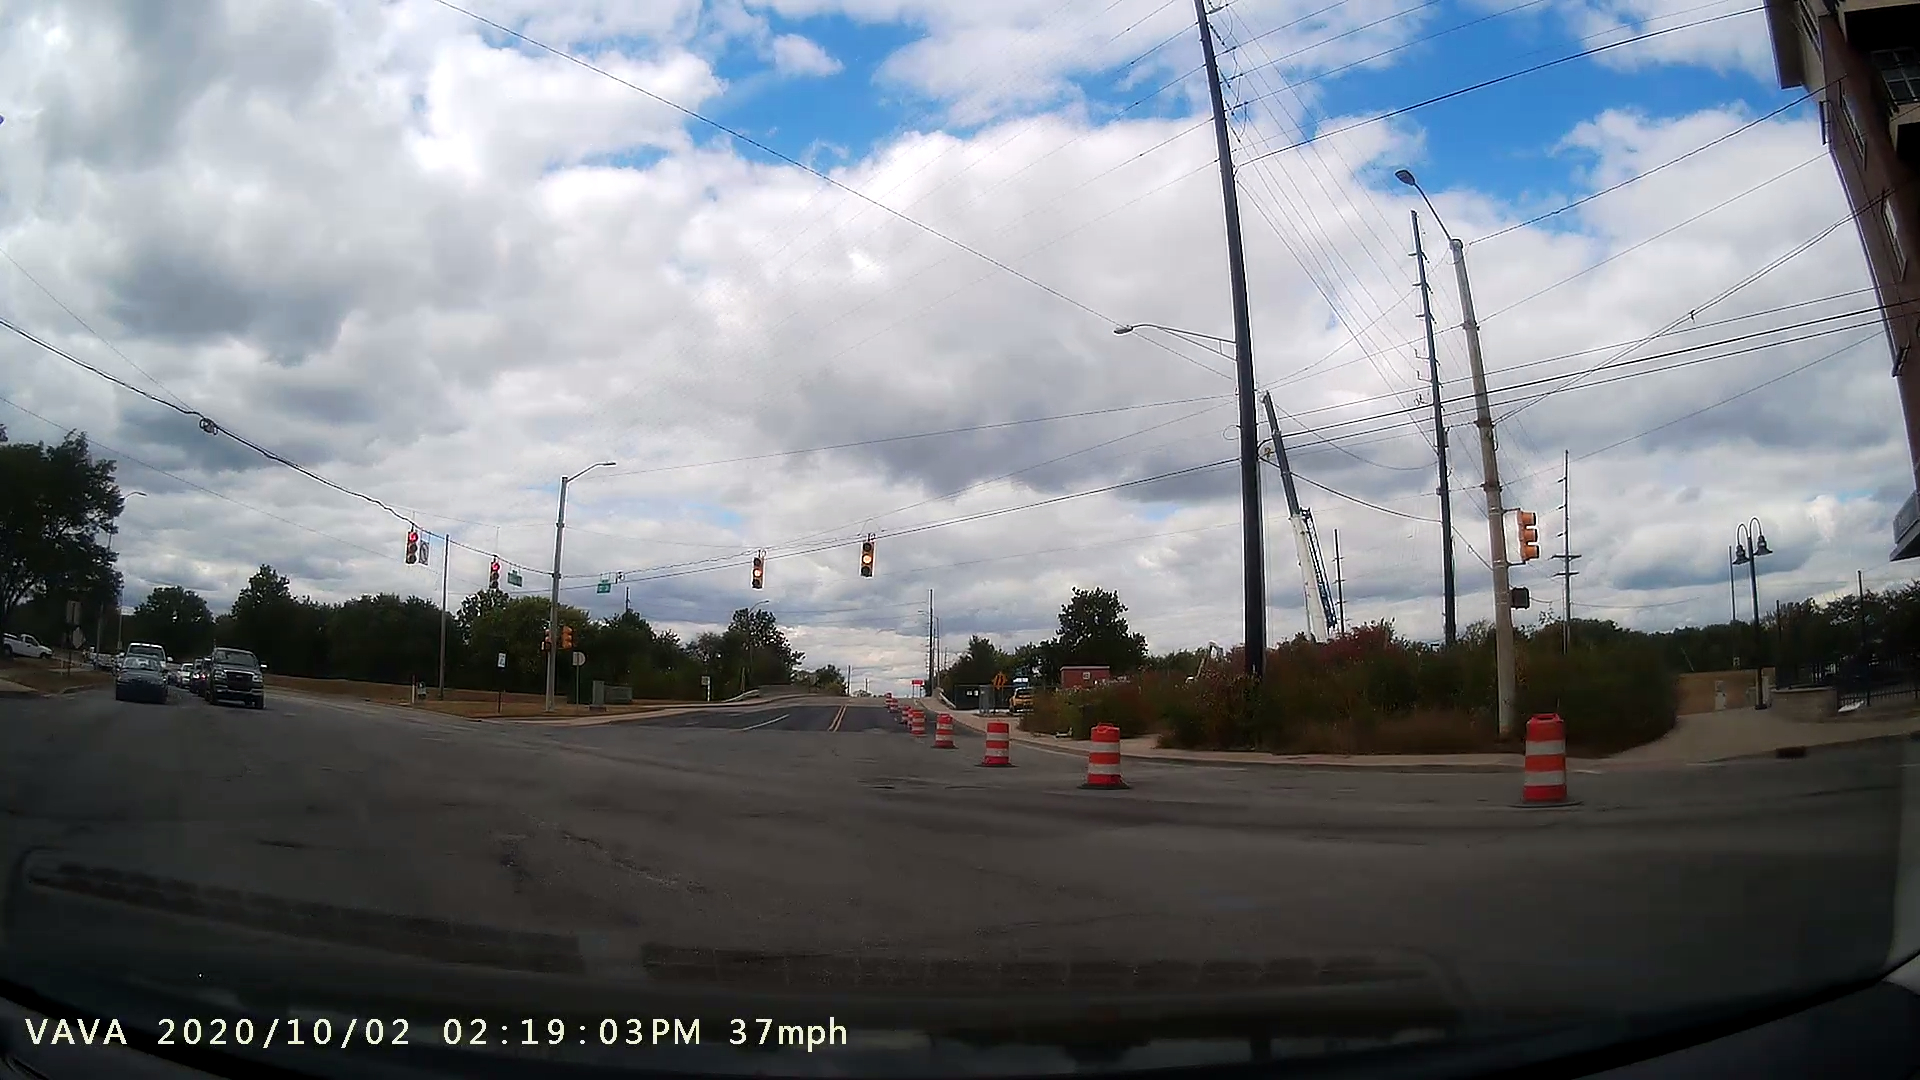const_barrel: (1506, 698, 1597, 832), (1072, 708, 1143, 798), (971, 705, 1014, 771), (926, 700, 963, 760)
